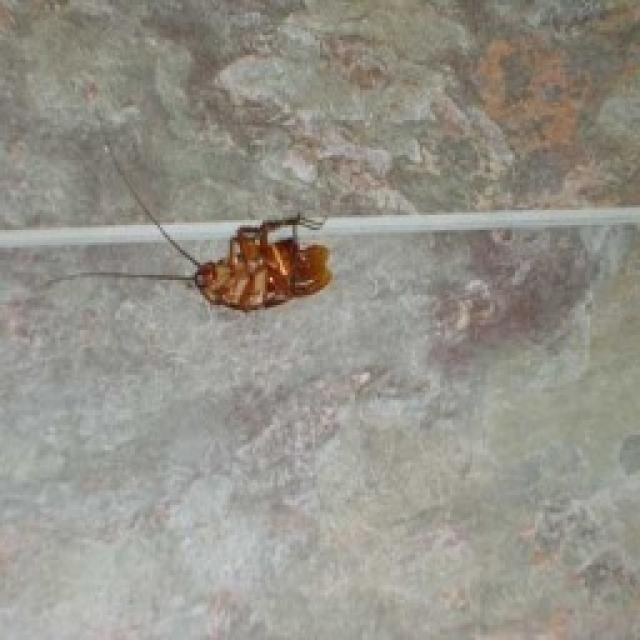cockroach: (154, 208, 355, 340)
